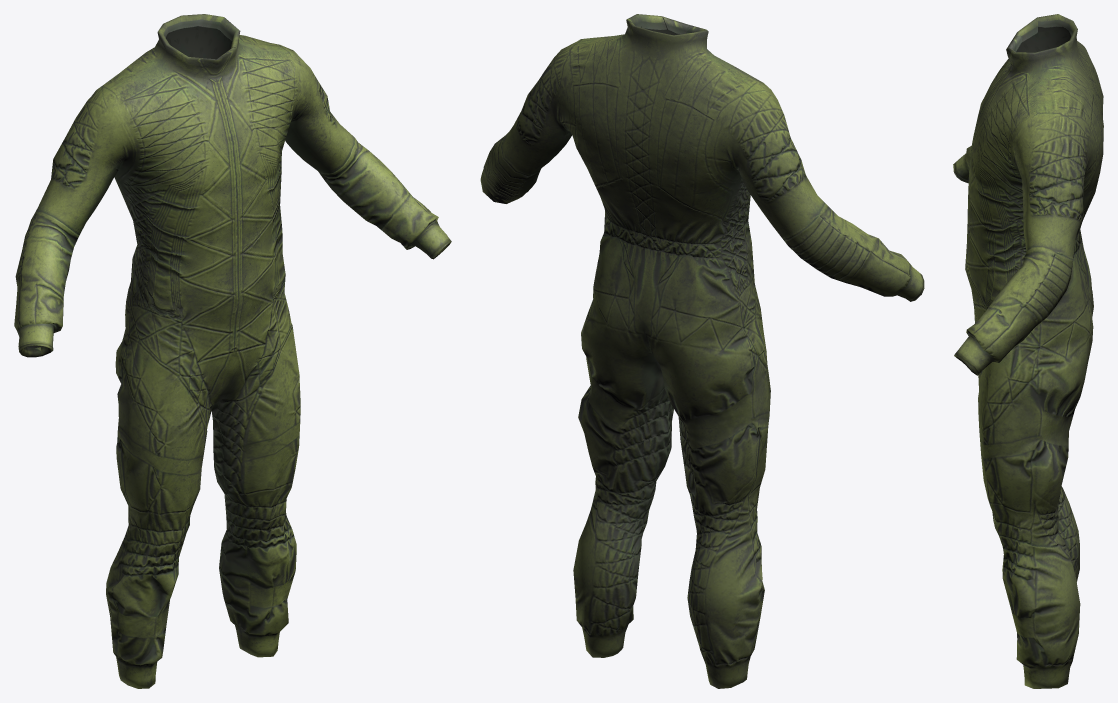
Rendered from low_poly_jumpsuit.glb.
3 views of the same model, side by side, from view 1: azimuth 30°, elevation 25°; view 2: azimuth 150°, elevation 25°; view 3: azimuth 270°, elevation 25° (orthographic). The views are drawn at different scales.
Visible parts, largest first — view 1: sAM KOMBEZ; view 2: sAM KOMBEZ; view 3: sAM KOMBEZ.
Boxes of the visible parts, x1,y1,x2,y2 form: sAM KOMBEZ: (14,14,451,688); sAM KOMBEZ: (480,14,924,688); sAM KOMBEZ: (953,14,1103,688).
Bounding box in the file's own units: 1.08 × 1.53 × 0.333.
Materials: 1 (1 with a texture image).
